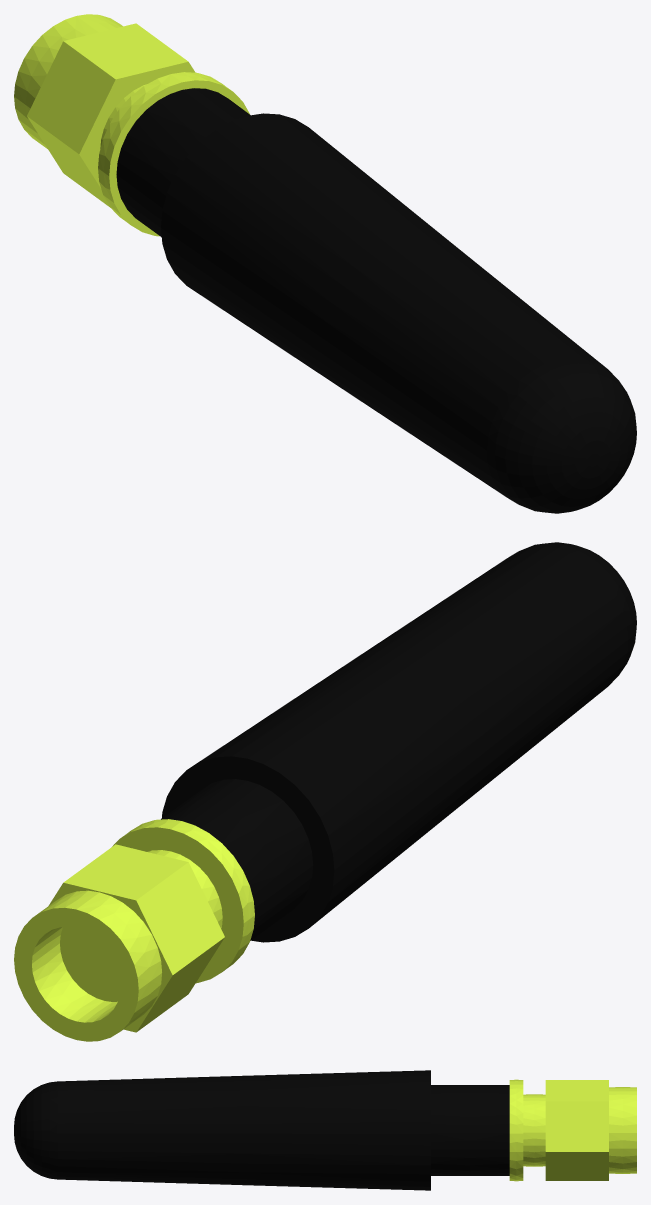
File: Antenna.obj
The picture shows the model from 3 angles, top to bottom: view 1: azimuth 30°, elevation 25°; view 2: azimuth 150°, elevation 25°; view 3: azimuth 270°, elevation 25°; orthographic projection. The views are drawn at different scales.
Visible parts, largest first — view 1: Body1.001; view 2: Body1.001; view 3: Body1.001.
Boxes of the visible parts, x1,y1,x2,y2 form: Body1.001: (14, 14, 636, 513); Body1.001: (14, 542, 636, 1041); Body1.001: (14, 1070, 636, 1190).
Size of the model in its own units: 0.0107 by 0.0107 by 0.0553.
